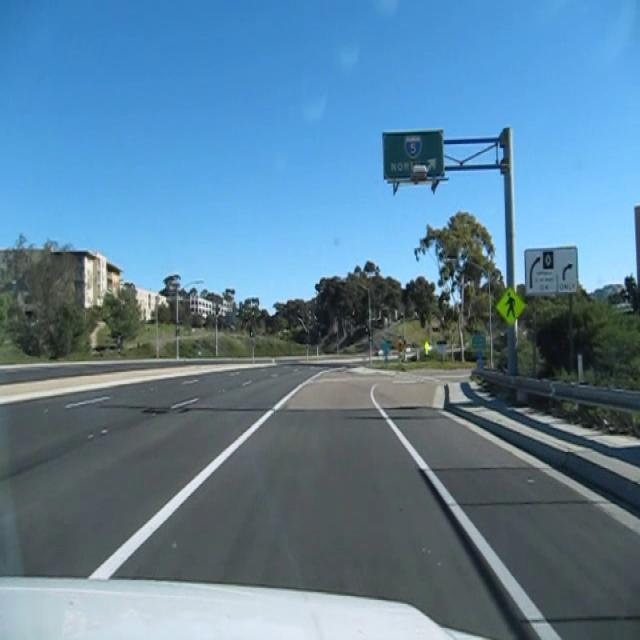pedestrianCrossing: (494, 284, 527, 327)
